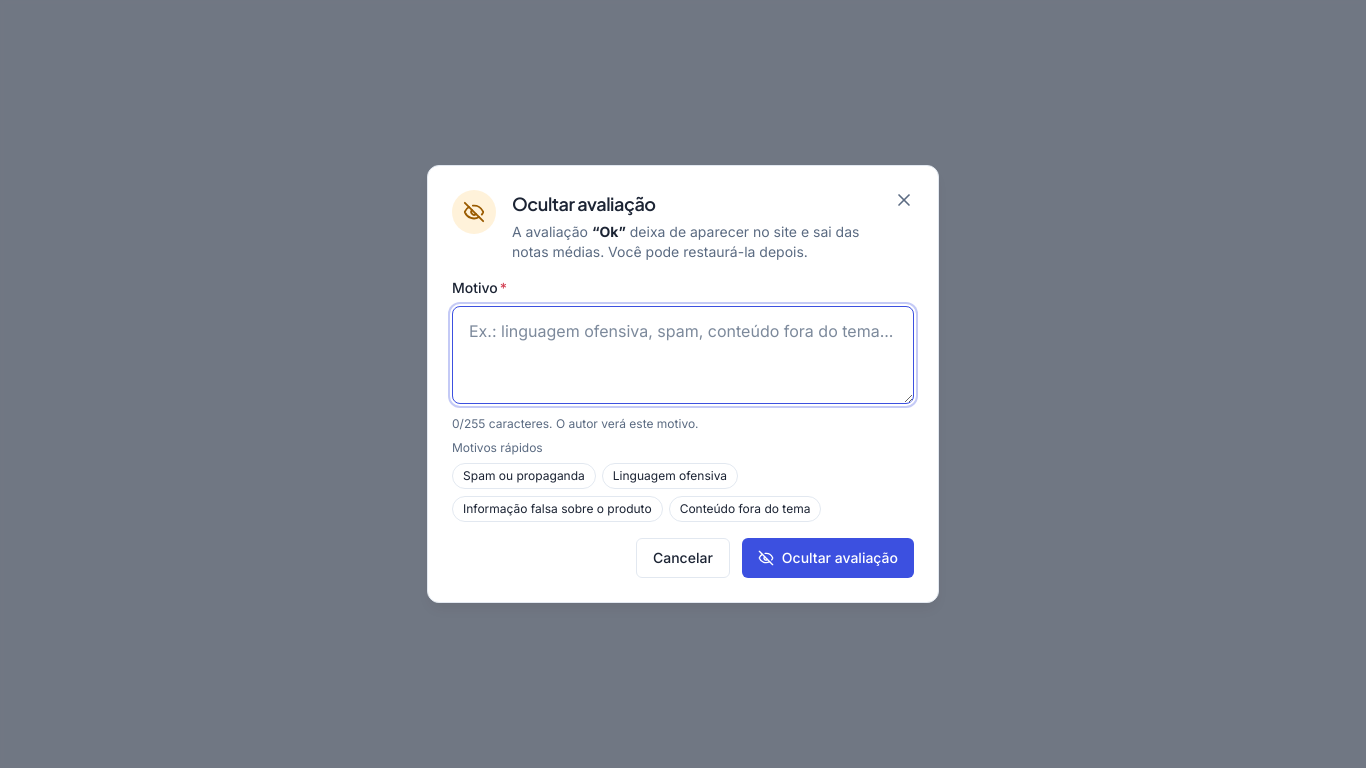
Test: HideReviewModal (modal de motivo) › motivos rápidos preenchem o campo
Click the button "Linguagem ofensiva": x=670, y=476 [602, 463, 738, 489]
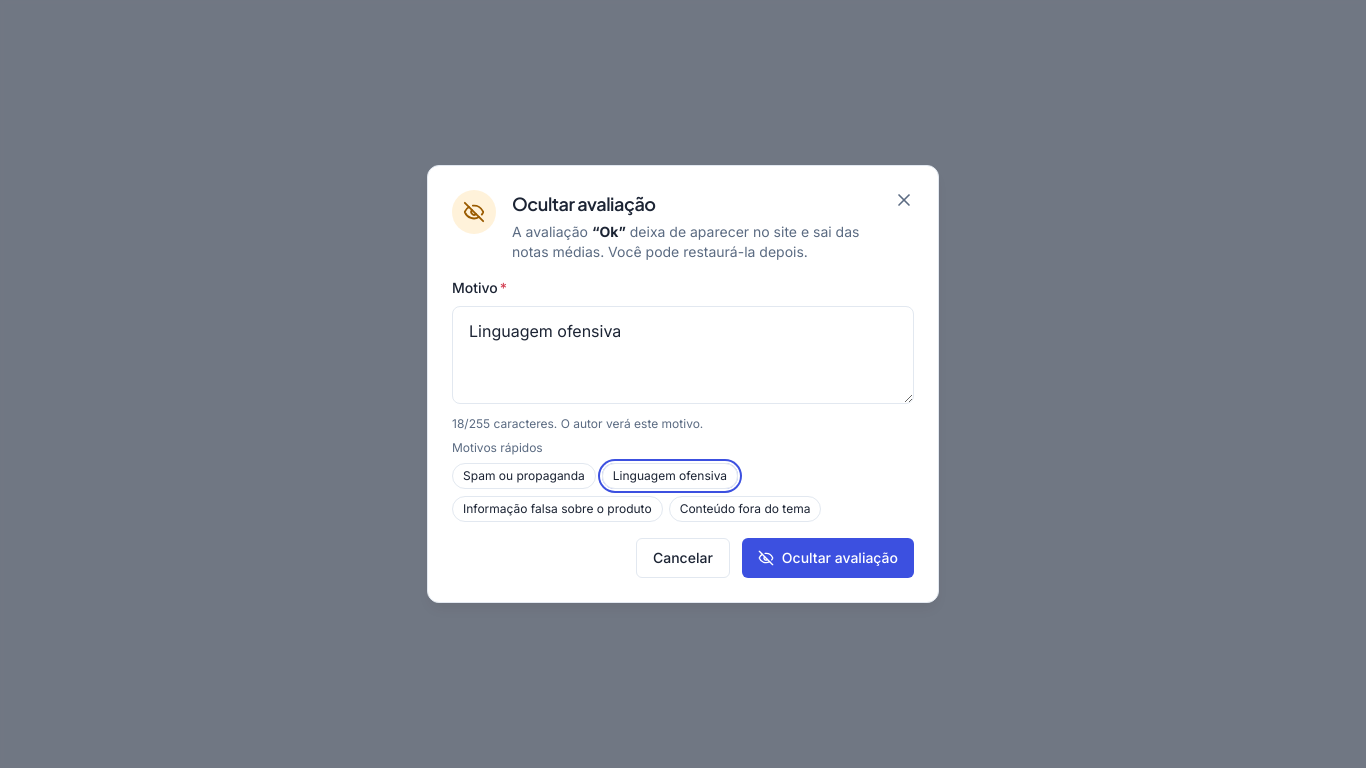
Now the text box labelled "Motivo*" holds "Linguagem ofensiva", box [452, 306, 914, 404]
